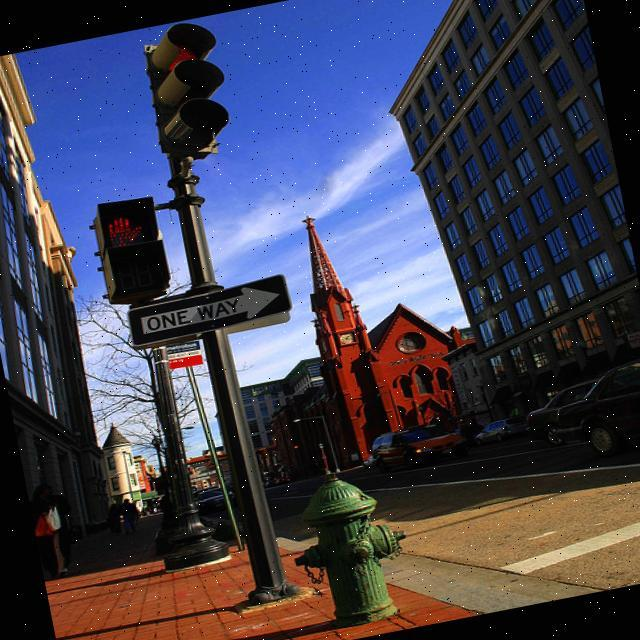fire_hydrant: (280, 462, 422, 636)
